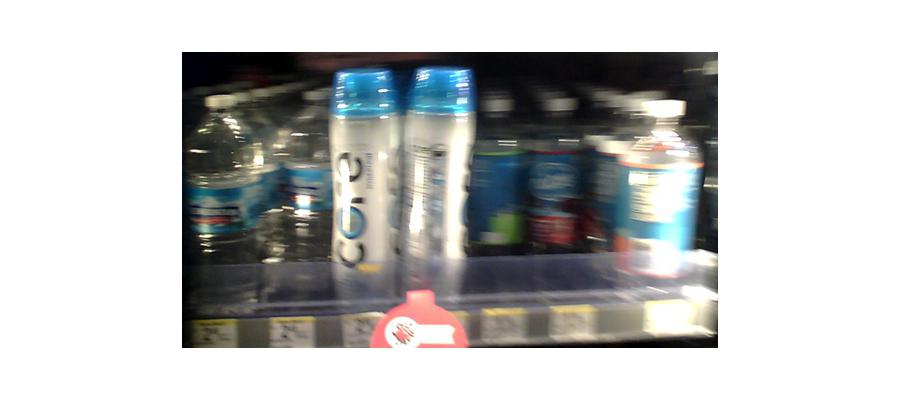bottle: (602, 101, 704, 300), (327, 68, 400, 311), (402, 64, 470, 302), (186, 95, 261, 293), (531, 98, 593, 299), (260, 119, 326, 302), (476, 99, 533, 304)
